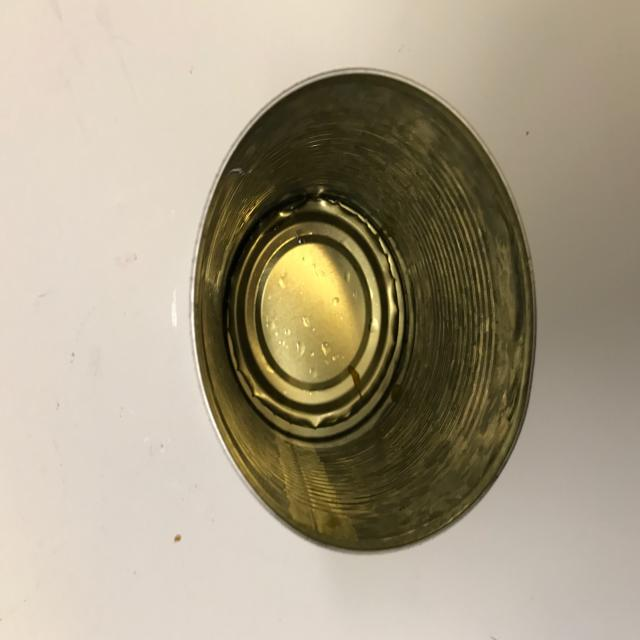metal: (190, 65, 537, 552)
